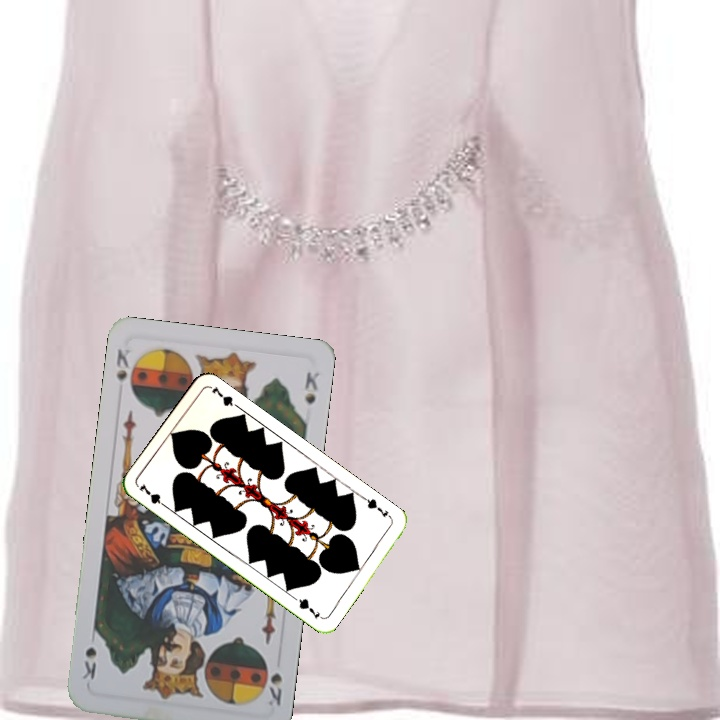G7: (135, 479, 170, 511), (360, 493, 395, 523)
SK: (112, 344, 139, 398), (264, 669, 285, 711)
